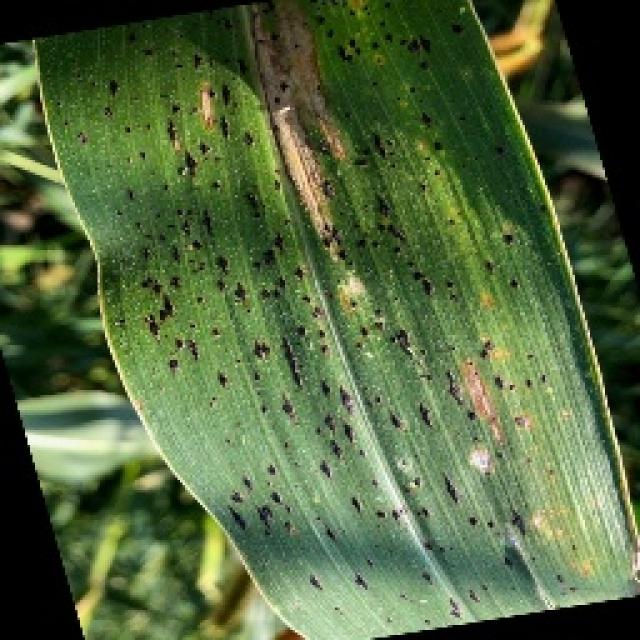Tar_Spot: (354, 268, 535, 514), (113, 95, 269, 361)
